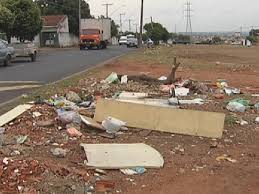rubble: (66, 76, 249, 132)
